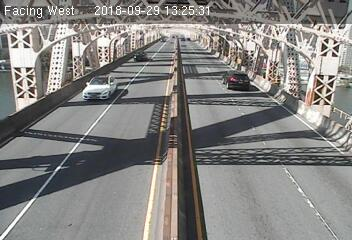car: (83, 73, 117, 103), (223, 68, 249, 90), (128, 47, 150, 62)
